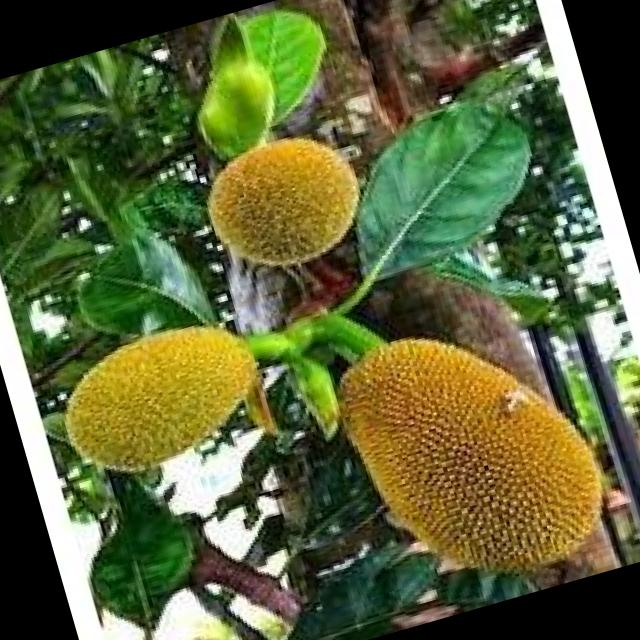Fruit: (295, 270, 640, 636), (36, 297, 287, 501), (178, 102, 398, 308)
